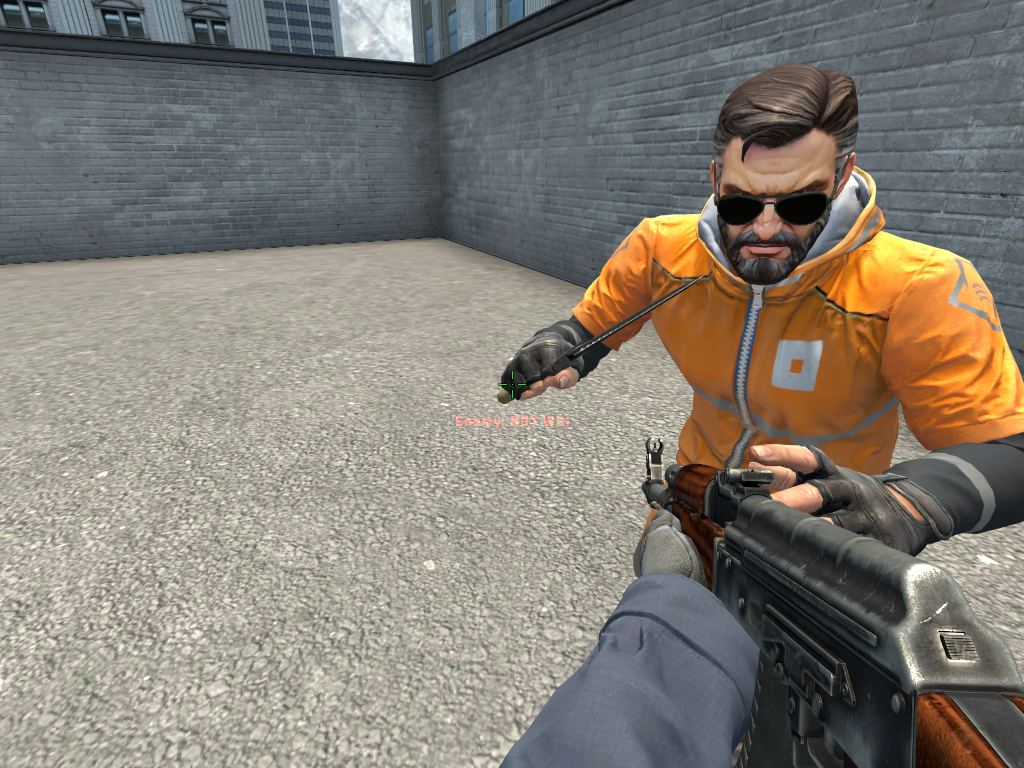tr head: (708, 60, 862, 289)
